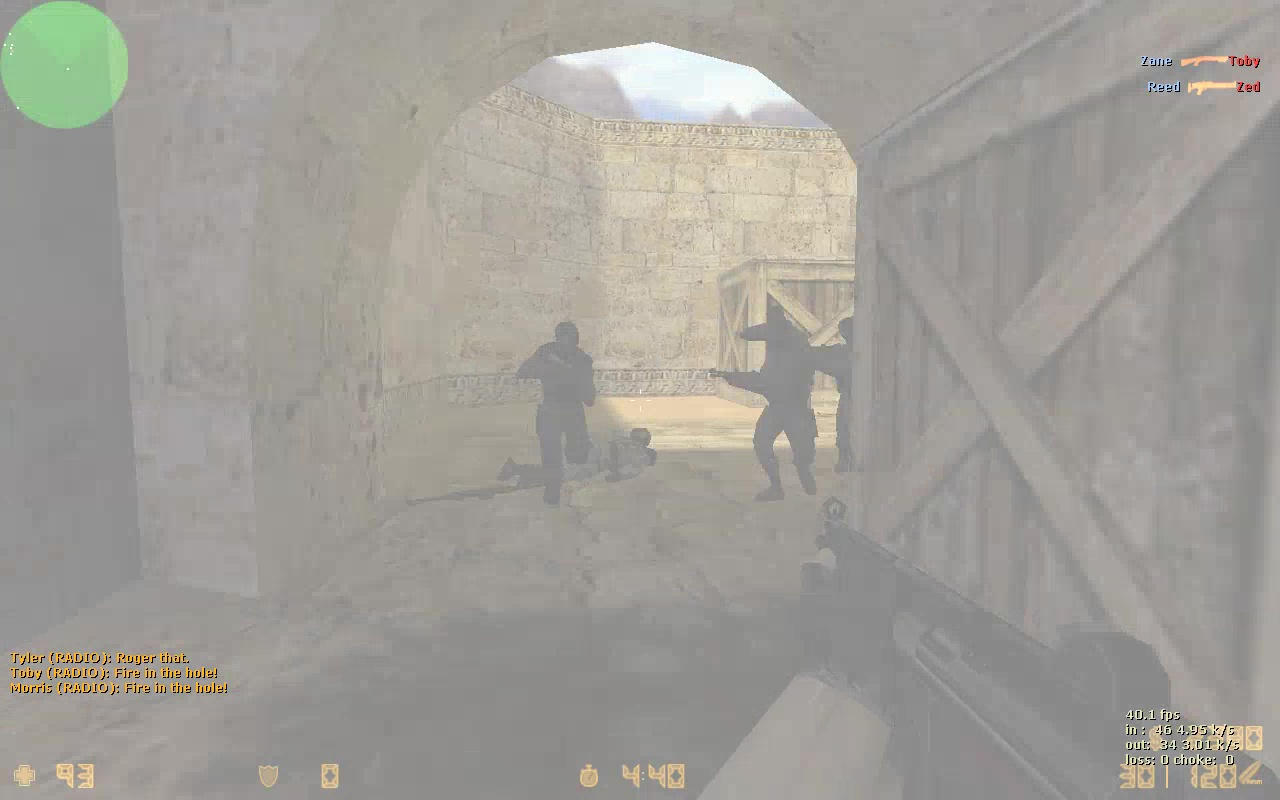ct: (739, 339, 818, 505), (526, 327, 598, 497)
dead: (490, 440, 666, 500)
